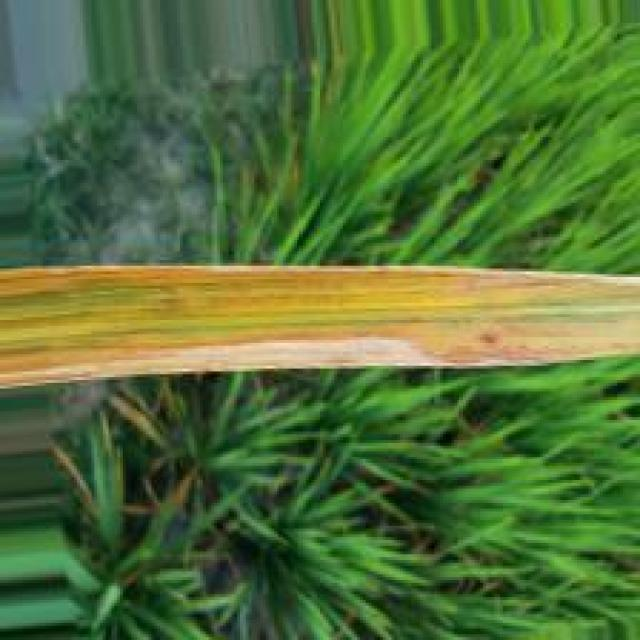Bacterial_Leaf_Blight: (0, 261, 636, 393)
